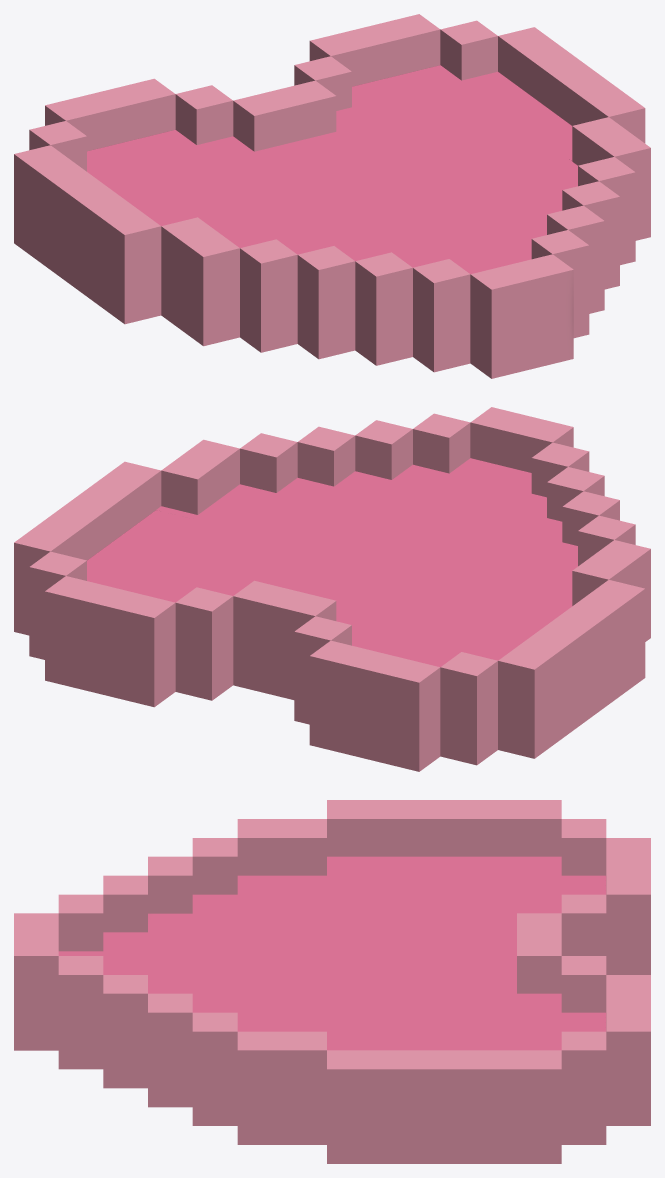
Rendered from heart.glb.
3 views of the same model, one above another, from view 1: azimuth 30°, elevation 25°; view 2: azimuth 150°, elevation 25°; view 3: azimuth 270°, elevation 25° (orthographic). The views are drawn at different scales.
Visible parts, largest first — view 1: Cube.001; view 2: Cube.001; view 3: Cube.001.
Part boxes in pixels (<box>): Cube.001: <box>14,14,650,378</box>; Cube.001: <box>14,407,650,771</box>; Cube.001: <box>14,800,650,1163</box>.
Size of the model in its own units: 22.17 by 3.63 by 22.17.
Materials: 1 (1 with a texture image).
